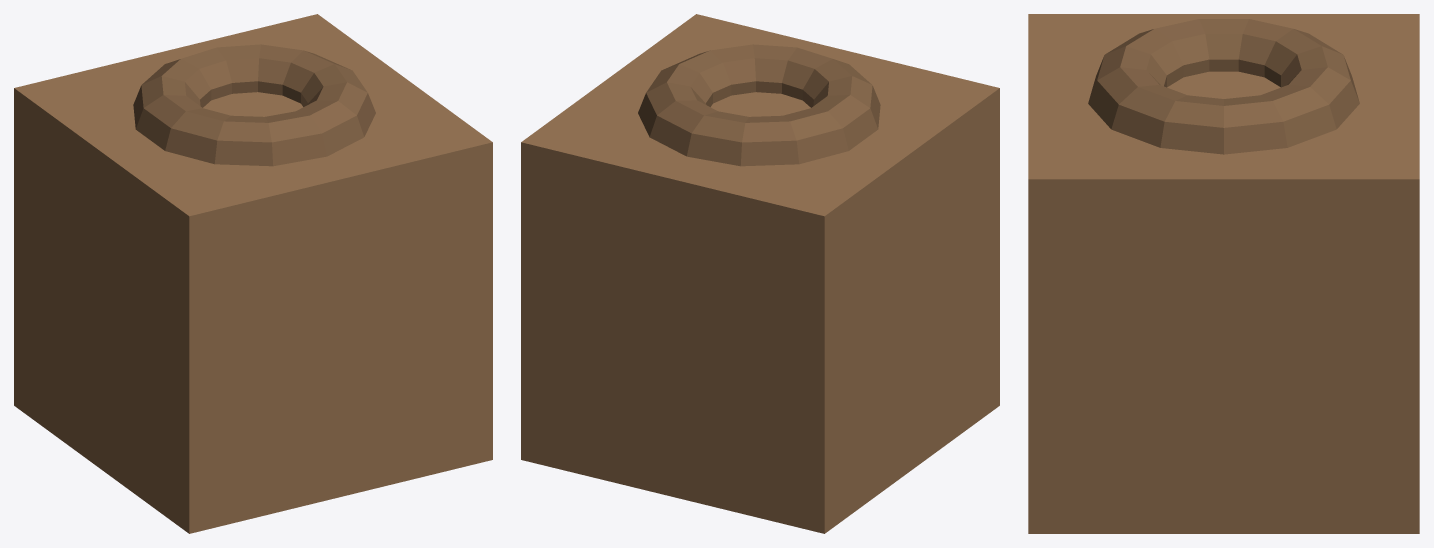
The model's file is DirtBox_Sown.fbx.
The picture shows the model from 3 angles, left to right: view 1: azimuth 30°, elevation 25°; view 2: azimuth 150°, elevation 25°; view 3: azimuth 270°, elevation 25°; orthographic projection. The views are drawn at different scales.
Parts seen in each view (by area): view 1: Cube, Torus; view 2: Cube, Torus; view 3: Cube, Torus.
Part boxes in pixels (x1=…): Cube: x1=14, y1=14, x2=492, y2=533; Torus: x1=133, y1=44, x2=375, y2=166; Cube: x1=521, y1=14, x2=999, y2=533; Torus: x1=638, y1=44, x2=880, y2=166; Cube: x1=1028, y1=14, x2=1419, y2=533; Torus: x1=1088, y1=19, x2=1359, y2=154.
Bounding box in the file's own units: 100 × 110 × 100.
